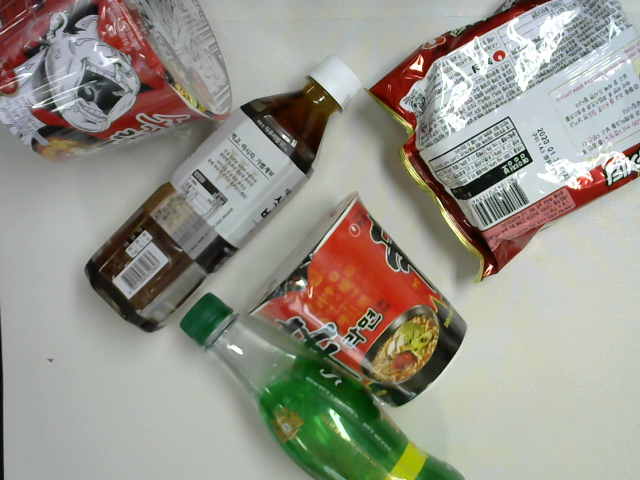Hejangpul: (1, 1, 235, 168)
Post-meal_recipe_W_tea_500ml: (85, 53, 365, 333)
Seagram_Lemon_Carbonated_Water: (180, 289, 467, 480)
Sichuan_Chapaghetti: (357, 1, 639, 285)
Sinramen_small: (244, 189, 472, 410)
